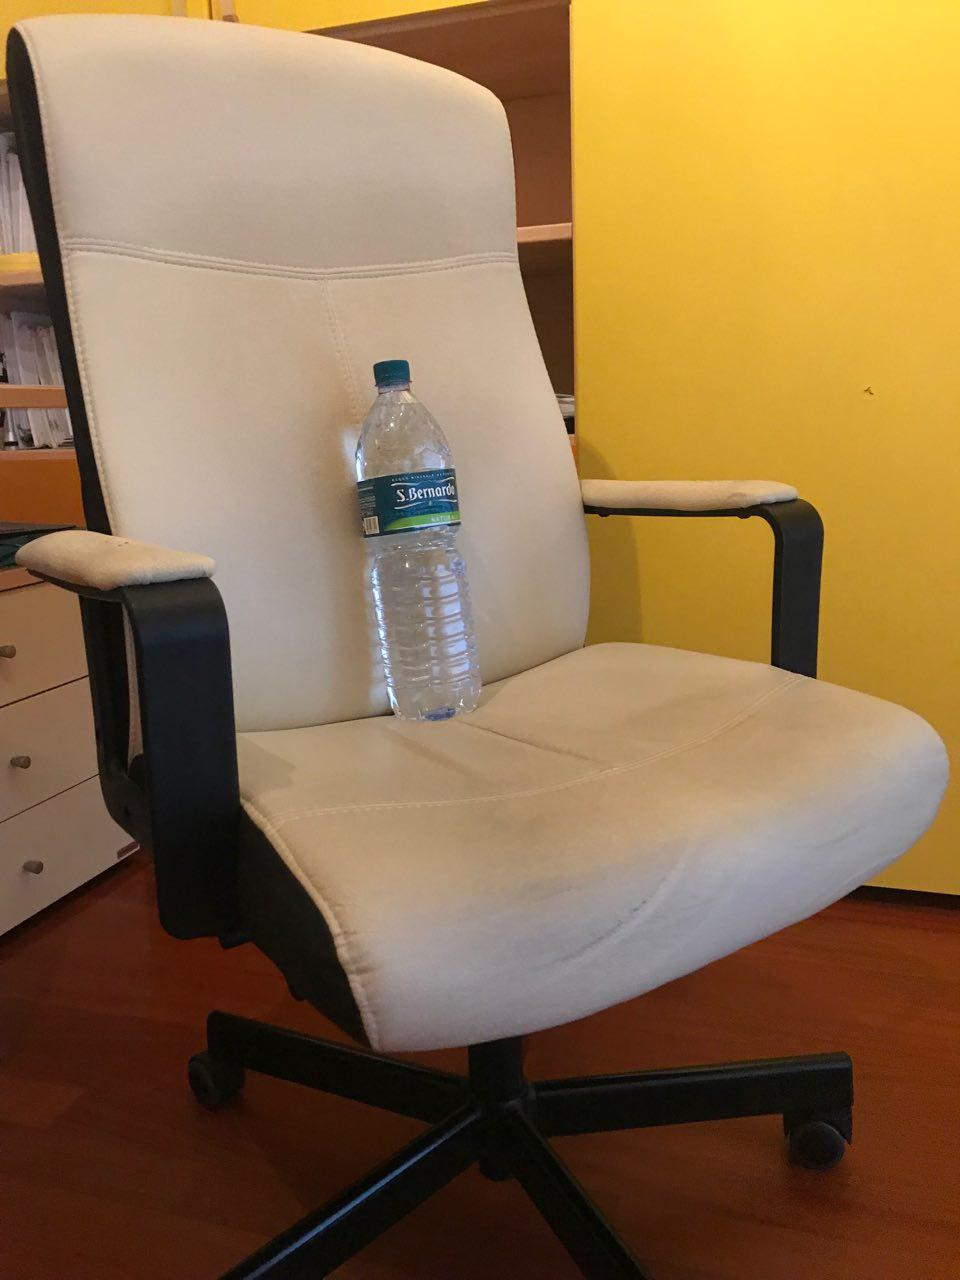san_bernardo: (354, 360, 484, 721)
